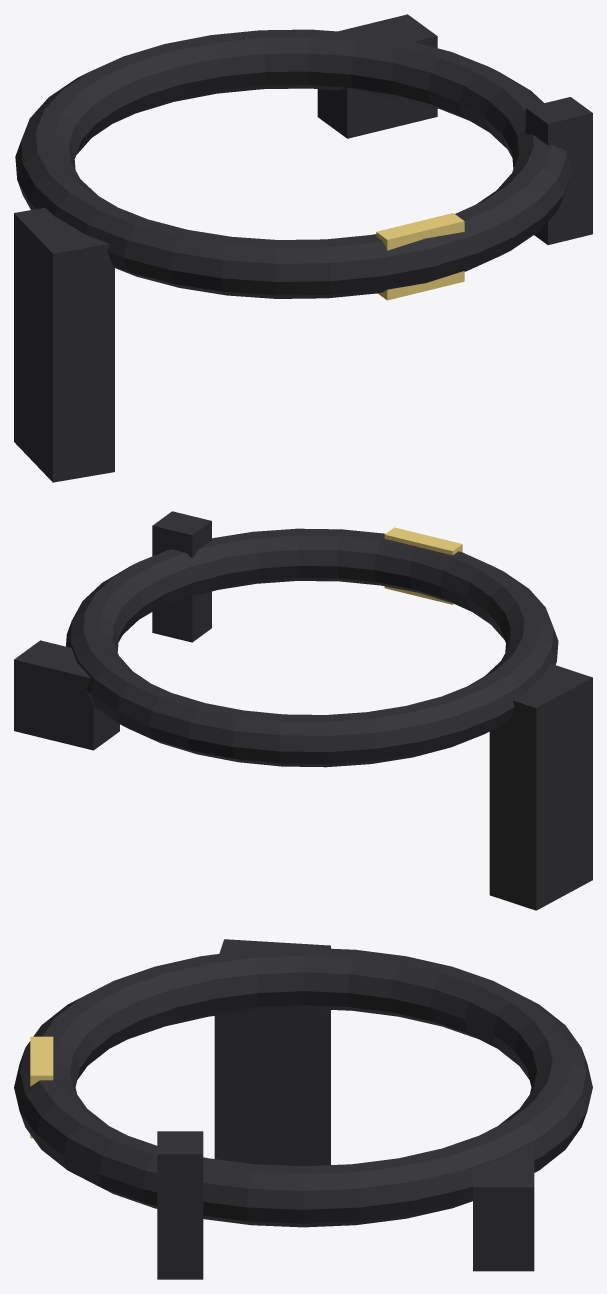
The model's file is wear_belt.glb.
3 views of the same model, one above another, from view 1: azimuth 30°, elevation 25°; view 2: azimuth 150°, elevation 25°; view 3: azimuth 270°, elevation 25° (orthographic). The views are drawn at different scales.
Visible parts, largest first — view 1: Belt, Holster, Radio, Pouch, Buckle; view 2: Belt, Holster, Pouch, Radio, Buckle; view 3: Belt, Holster, Pouch, Radio, Buckle.
Part boxes in pixels (x1,y1,x2,y2): Belt: (15, 29, 572, 298); Holster: (14, 207, 114, 482); Radio: (525, 97, 592, 244); Pouch: (317, 14, 437, 138); Buckle: (376, 213, 464, 300); Belt: (66, 528, 558, 767); Holster: (489, 663, 592, 910); Pouch: (14, 640, 119, 750); Radio: (152, 511, 211, 642); Buckle: (384, 527, 462, 604); Belt: (14, 947, 592, 1227); Holster: (214, 939, 330, 1166); Pouch: (473, 1143, 534, 1271); Radio: (157, 1131, 203, 1279); Buckle: (30, 1036, 53, 1138).
Size of the model in its own units: 0.4052 by 0.2 by 0.376.
